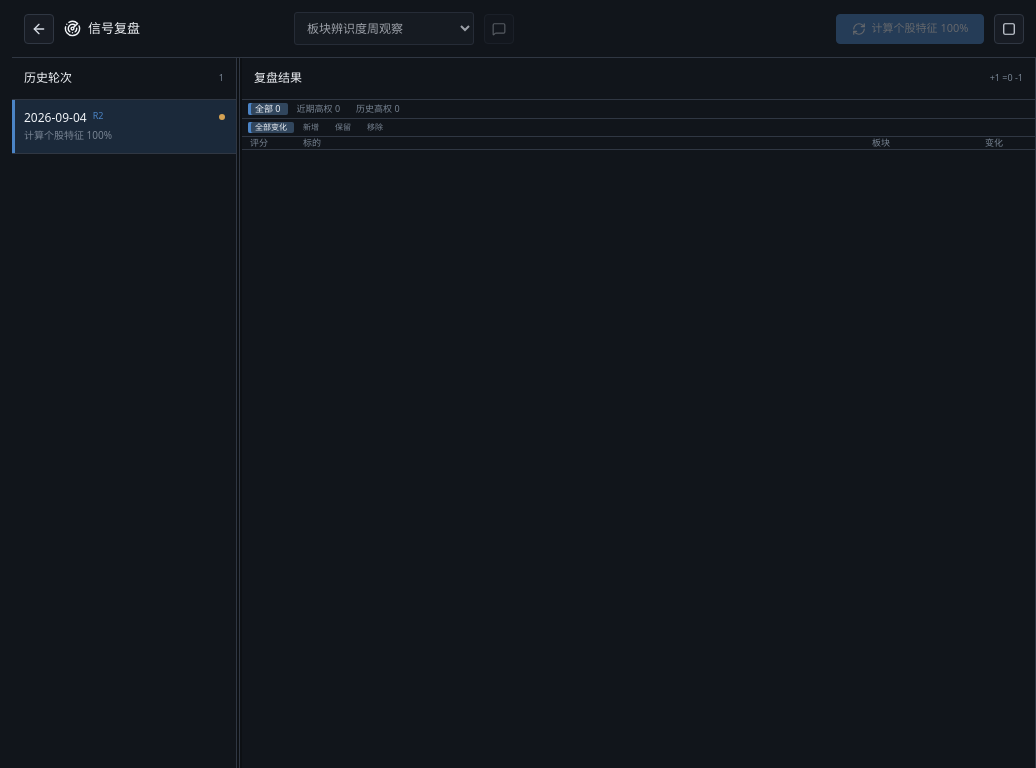
SignalReviewWorkspace › requests cancellation once and shows the distinct cancelled outcome
Click the button named "停止复盘". click: (1009, 28)
box: [994,14,1024,44]
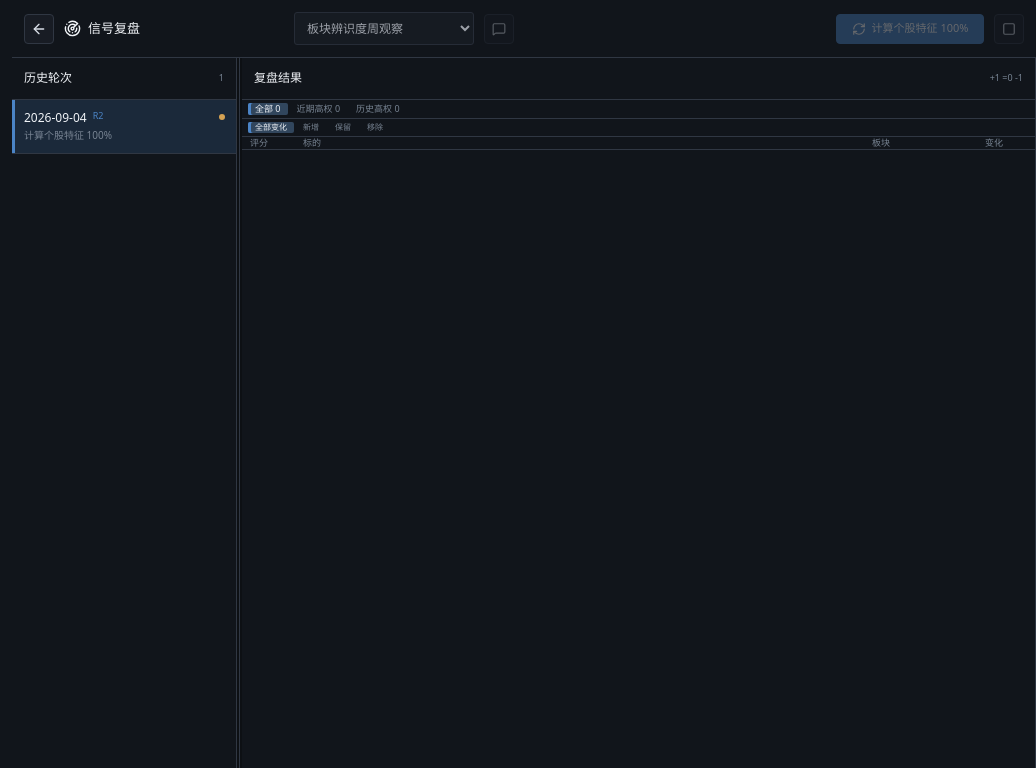
Click the button named "停止复盘". click: (1009, 28)
box: [994,14,1024,44]
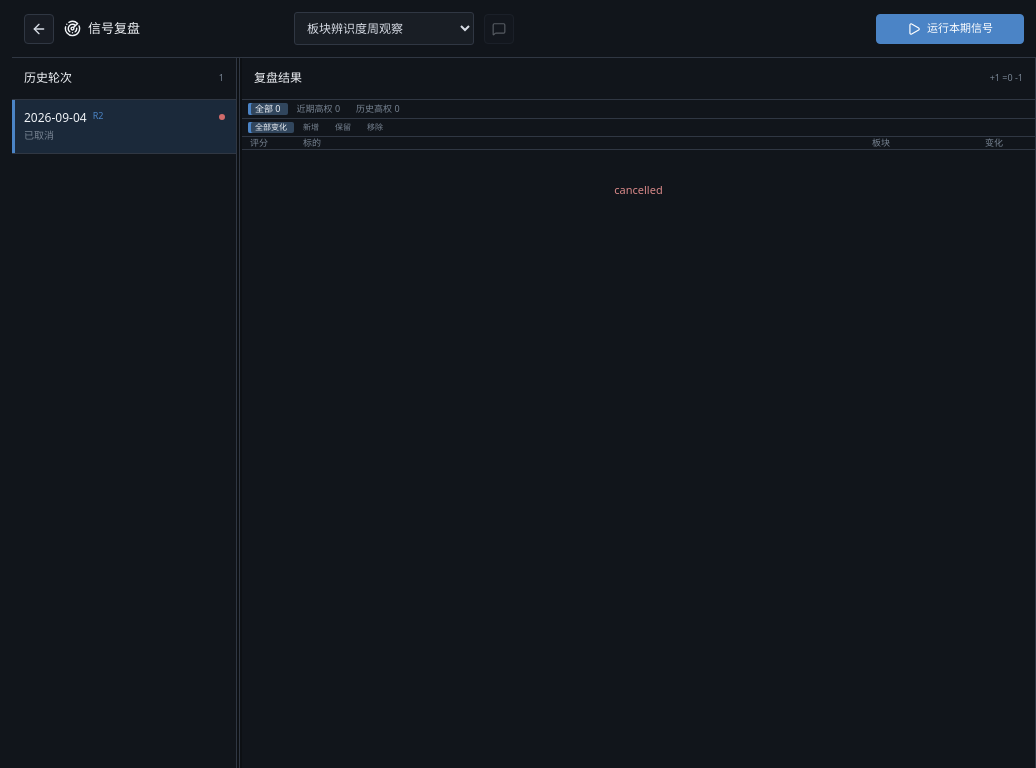
Expected: the text "已取消" is shown, [24,128,54,142]
Expected: the button "停止复盘" is gone
